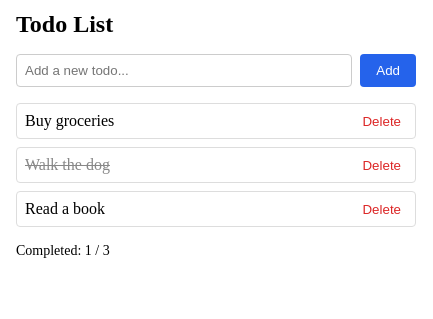
Test: TodoList Component › adds a new todo
Note: simulate typing
Step 1. Type "Learn testing" into the field with placeholder "Add a new todo..." → (184, 71), box [16, 54, 352, 87]
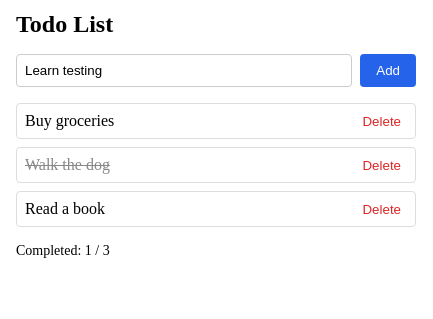
Step 2. Click the button "Add" → (388, 71), box [360, 54, 416, 87]
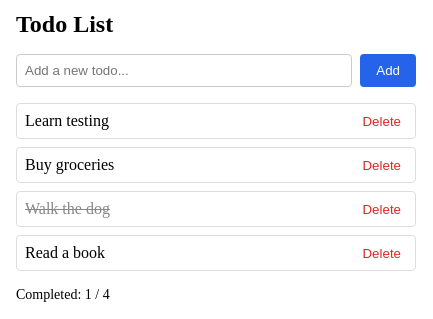
Check: the text "Learn testing" is shown, box [25, 112, 109, 130]
